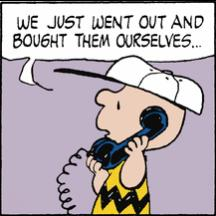charlie: (53, 53, 207, 215)
